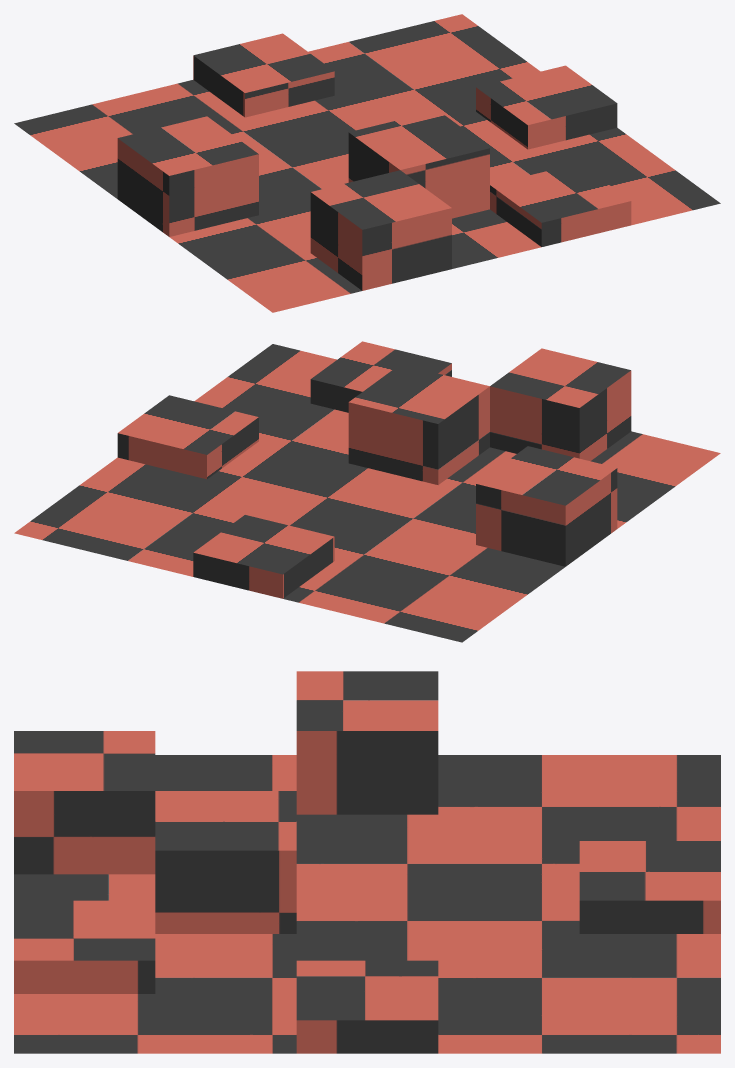
The model's file is default_env.dae.
3 views of the same model, one above another, from view 1: azimuth 30°, elevation 25°; view 2: azimuth 150°, elevation 25°; view 3: azimuth 270°, elevation 25° (orthographic). The views are drawn at different scales.
Parts seen in each view (by area): view 1: Plane; view 2: Plane; view 3: Plane.
Boxes of the visible parts, x1,y1,x2,y2 form: Plane: (14, 14, 720, 312); Plane: (14, 341, 720, 642); Plane: (14, 671, 720, 1053).
Size of the model in its own units: 20 by 20 by 2.61.
